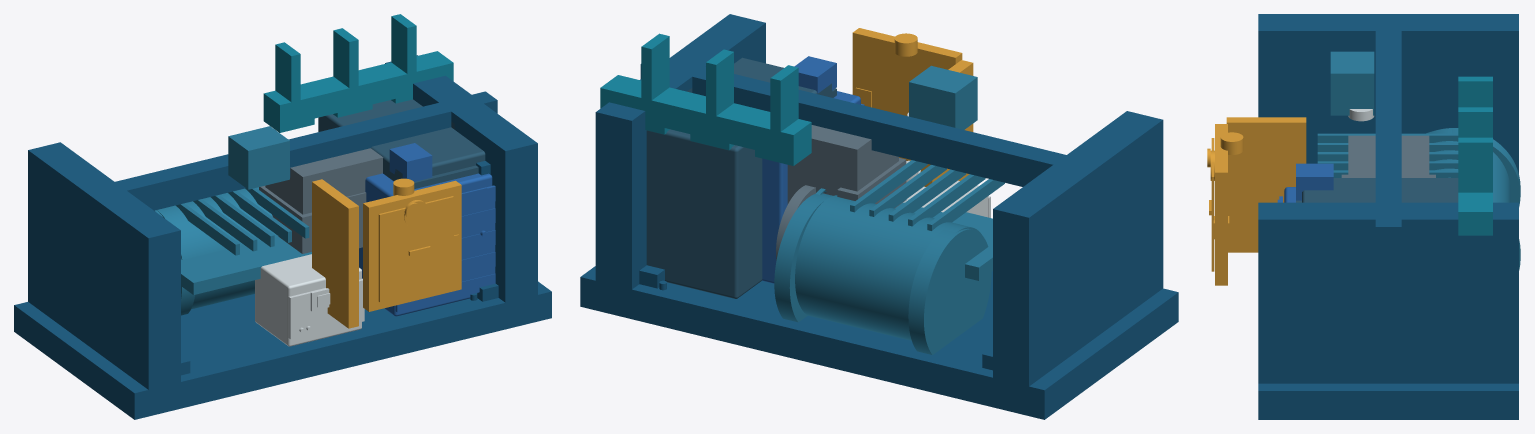
File: regenport-service.glb
3 views of the same model, side by side, from view 1: azimuth 30°, elevation 25°; view 2: azimuth 150°, elevation 25°; view 3: azimuth 270°, elevation 25° (orthographic). The views are drawn at different scales.
Visible parts, largest first — view 1: regenport.load_crane_interface, regenport.service_emergency_access, regenport.motor_generator, regenport.dc_link, regenport.converter_inverter, regenport.controller_sensors, regenport.transmission_brake_path, regenport.storage_buffer; view 2: regenport.load_crane_interface, regenport.motor_generator, regenport.storage_buffer, regenport.dc_link, regenport.transmission_brake_path, regenport.service_emergency_access, regenport.converter_inverter, regenport.controller_sensors; view 3: regenport.load_crane_interface, regenport.service_emergency_access, regenport.motor_generator, regenport.dc_link, regenport.storage_buffer, regenport.transmission_brake_path, regenport.converter_inverter.
Part boxes in pixels (x1,y1,x2,y2): regenport.load_crane_interface: (14,55,551,419); regenport.service_emergency_access: (312,178,461,328); regenport.motor_generator: (154,126,311,315); regenport.dc_link: (263,14,453,132); regenport.converter_inverter: (359,143,495,316); regenport.controller_sensors: (255,254,364,346); regenport.transmission_brake_path: (259,148,383,253); regenport.storage_buffer: (318,99,485,188); regenport.load_crane_interface: (580,14,1178,419); regenport.motor_generator: (774,65,1004,354); regenport.storage_buffer: (646,57,836,298); regenport.dc_link: (600,33,811,165); regenport.transmission_brake_path: (776,125,906,260); regenport.service_emergency_access: (852,28,973,186); regenport.converter_inverter: (762,56,864,283); regenport.controller_sensors: (903,112,990,217); regenport.load_crane_interface: (1258,14,1518,419); regenport.service_emergency_access: (1207,117,1306,285); regenport.motor_generator: (1317,51,1520,270); regenport.dc_link: (1458,76,1492,235); regenport.storage_buffer: (1296,178,1458,202); regenport.transmission_brake_path: (1341,135,1435,177); regenport.converter_inverter: (1277,163,1333,202).
Size of the model in its own units: 3600 by 1940 by 2162.
